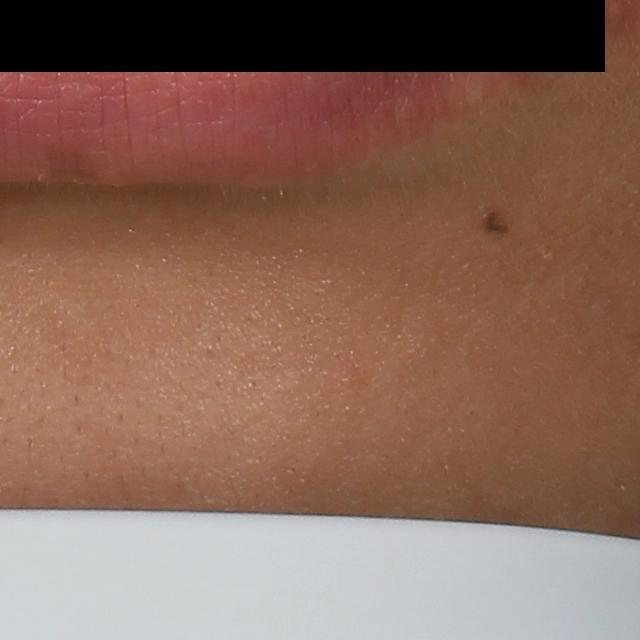nevus: (482, 206, 512, 235)
